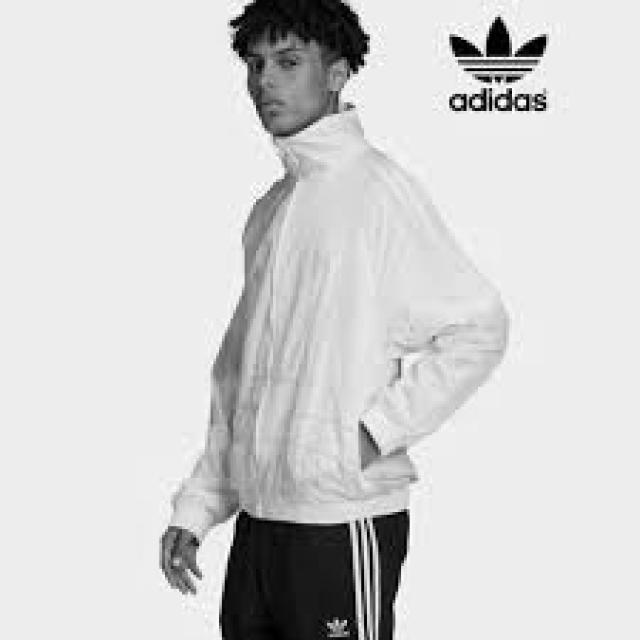Adidas: (441, 8, 558, 94), (324, 615, 352, 635)
